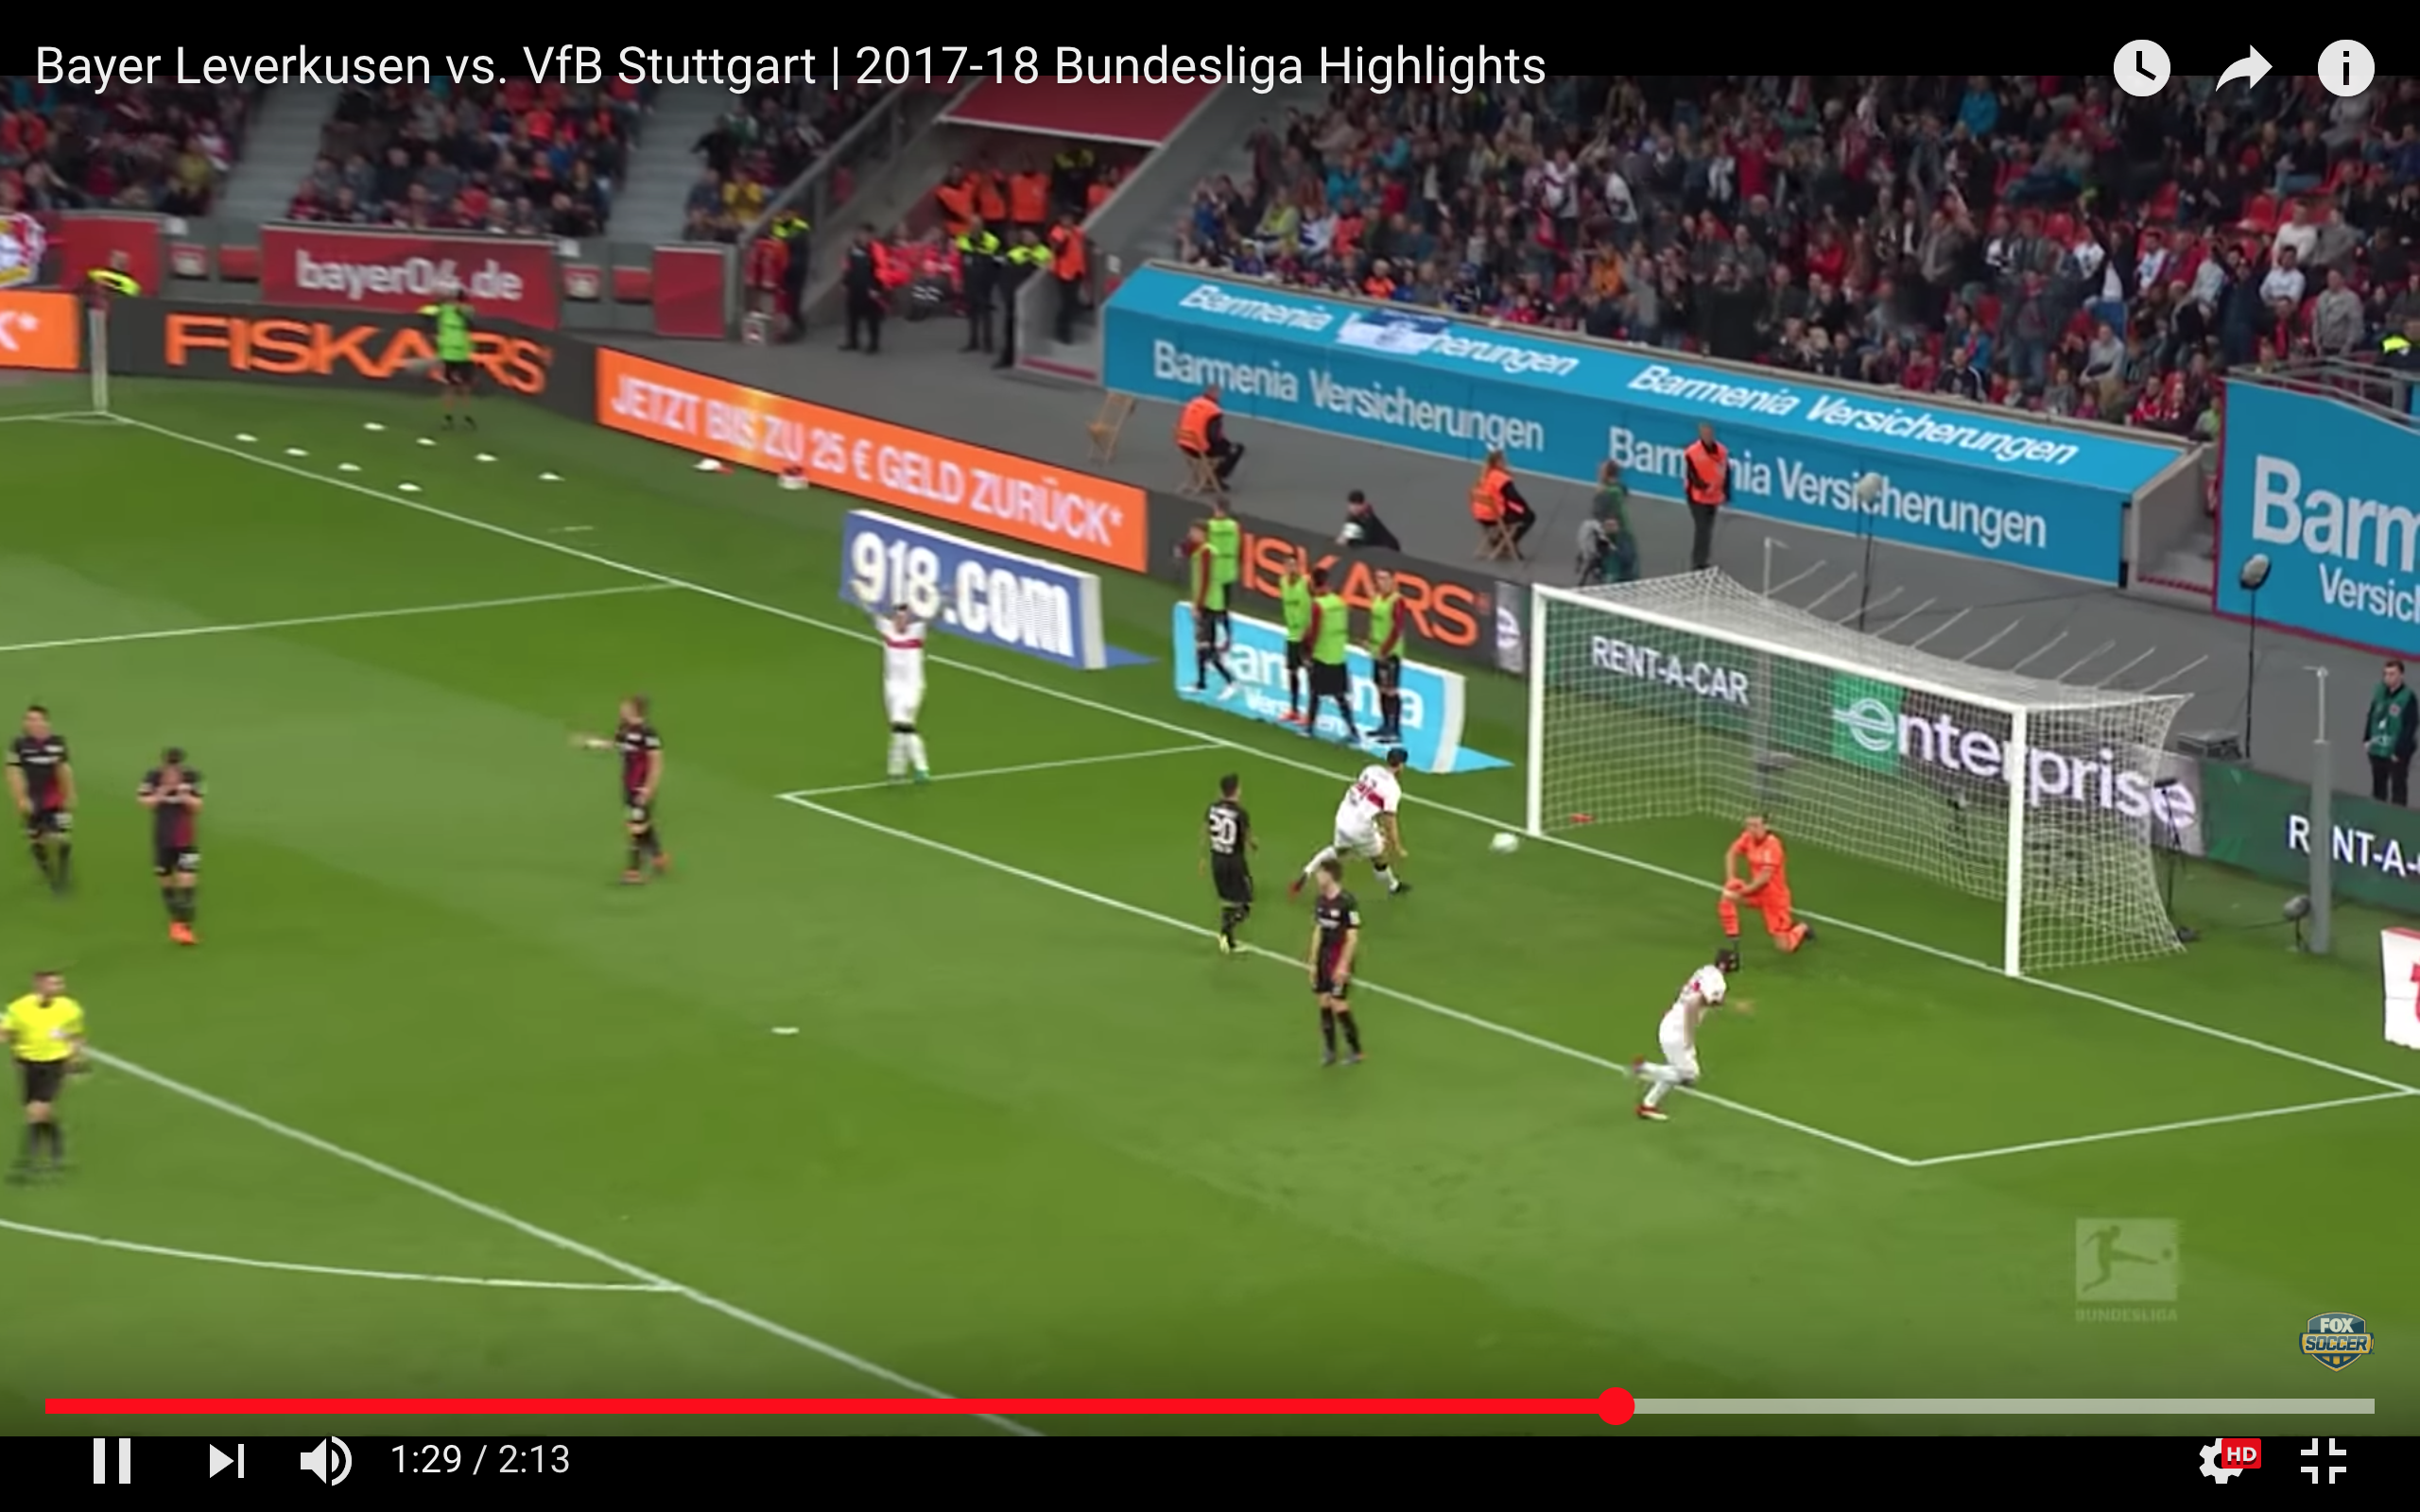referee: (1, 957, 103, 1190)
soccer ball: (1475, 822, 1533, 864)
soccer player: (1622, 938, 1755, 1134), (561, 689, 682, 893), (840, 585, 960, 789), (124, 742, 227, 955), (1288, 741, 1421, 905), (1701, 808, 1822, 960), (1291, 857, 1374, 1071), (5, 706, 92, 901), (1182, 770, 1269, 958)
